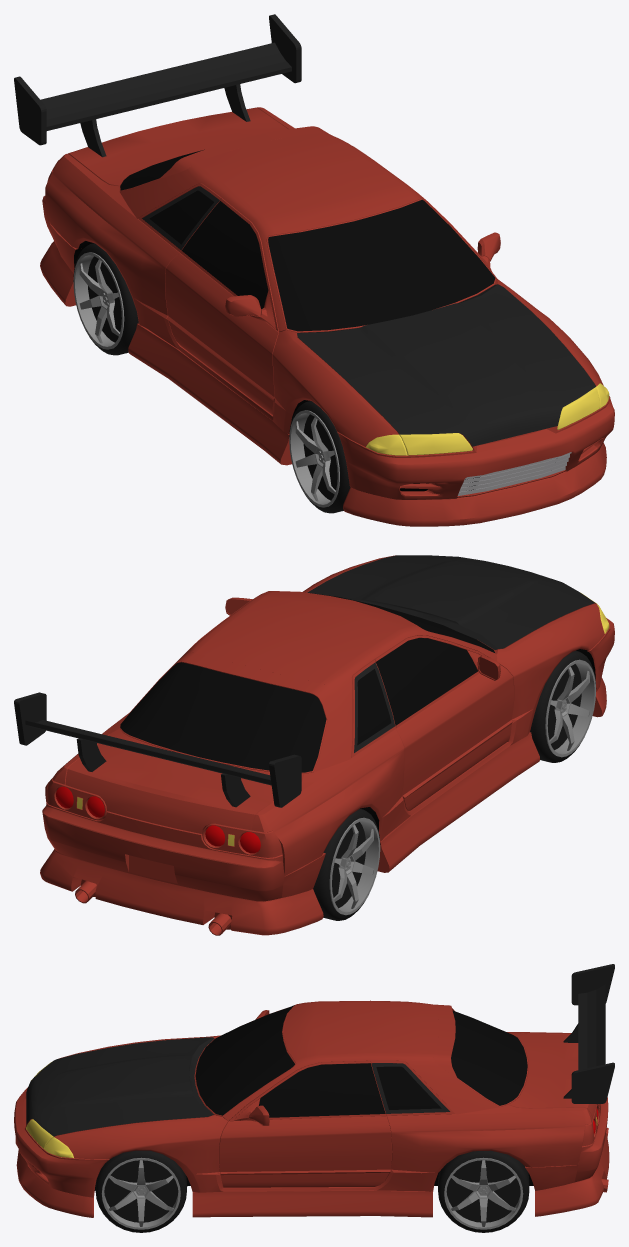
3 views of the same model, one above another, from view 1: azimuth 30°, elevation 25°; view 2: azimuth 150°, elevation 25°; view 3: azimuth 270°, elevation 25° (orthographic). The views are drawn at different scales.
Parts seen in each view (by area): view 1: r32, arkateker, onteker; view 2: r32, onteker, arkateker; view 3: r32, arkateker, onteker.
Part boxes in pixels (bbox=[...]): r32: bbox=[14, 14, 614, 526]; arkateker: bbox=[73, 243, 138, 355]; onteker: bbox=[289, 401, 350, 513]; r32: bbox=[14, 555, 614, 935]; onteker: bbox=[530, 650, 596, 762]; arkateker: bbox=[313, 808, 380, 920]; r32: bbox=[14, 964, 614, 1217]; arkateker: bbox=[438, 1150, 529, 1232]; onteker: bbox=[95, 1150, 186, 1232].
Bounding box in the file's own units: 4.38 × 3.31 × 10.52.
